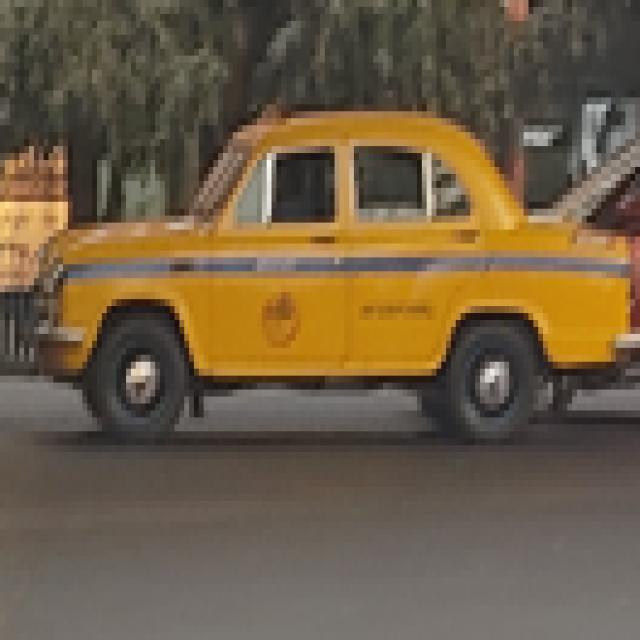ambasador_taxi: (40, 78, 632, 479)
